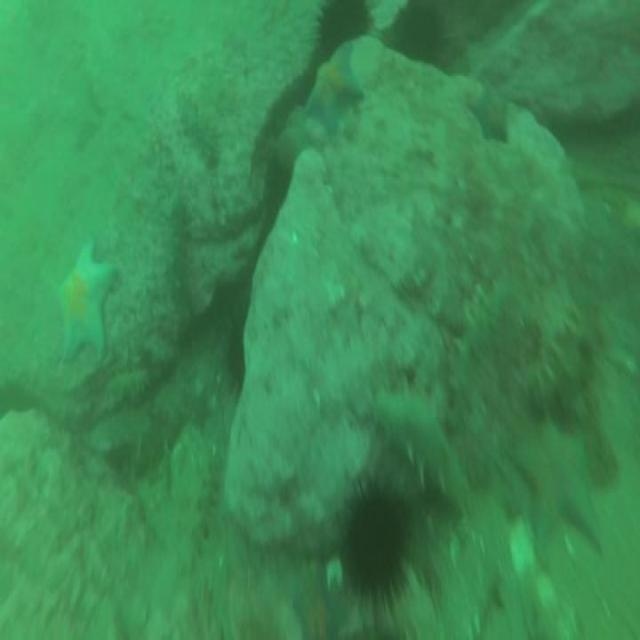echinus: (339, 472, 407, 612), (313, 1, 374, 58)
holothurian: (365, 387, 471, 511), (521, 276, 582, 404), (455, 264, 518, 360), (196, 446, 231, 612), (174, 89, 222, 168)
starfish: (510, 408, 609, 569), (51, 238, 118, 364), (302, 46, 364, 145), (291, 569, 342, 640), (466, 73, 514, 148)
